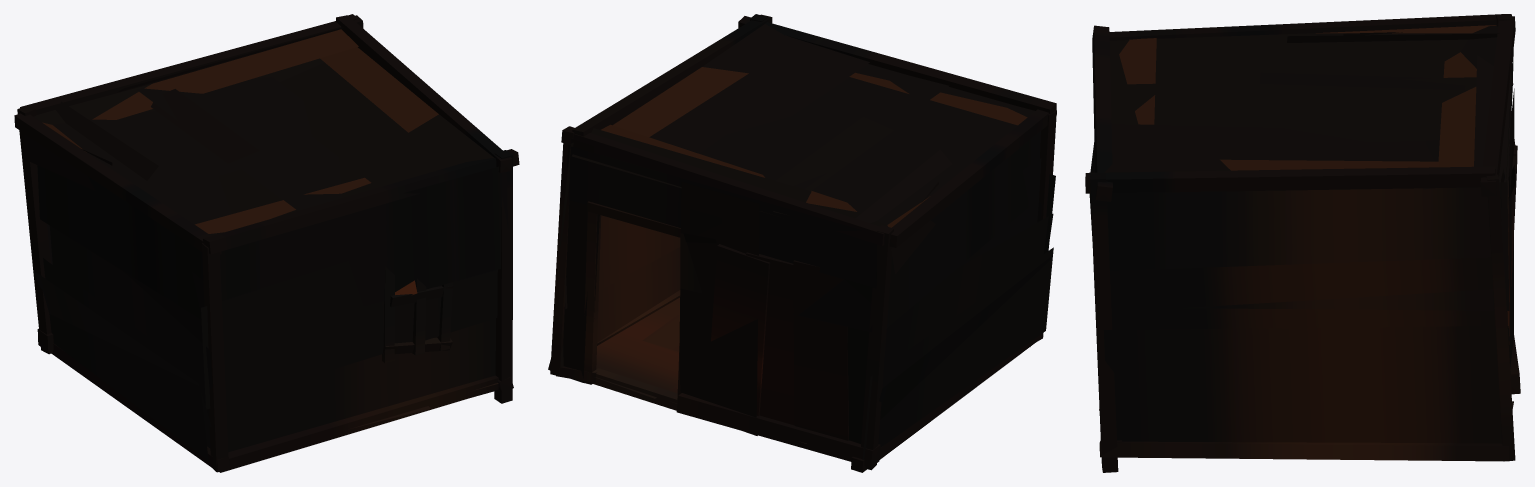
The model's file is Room_05_quill.fbx.
The picture shows the model from 3 angles, left to right: view 1: azimuth 30°, elevation 25°; view 2: azimuth 150°, elevation 25°; view 3: azimuth 270°, elevation 25°; orthographic projection. The views are drawn at different scales.
Parts seen in each view (by area): view 1: NewLayer7; view 2: NewLayer7; view 3: NewLayer7.
Boxes of the visible parts, box(x1,y1,x2,y2) form: NewLayer7: box(14, 14, 519, 472); NewLayer7: box(548, 14, 1056, 472); NewLayer7: box(1085, 14, 1520, 472).
Bounding box in the file's own units: 0.6348 × 0.4647 × 0.5948.
